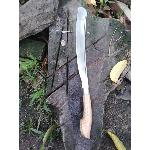Golok: (73, 3, 96, 143)
